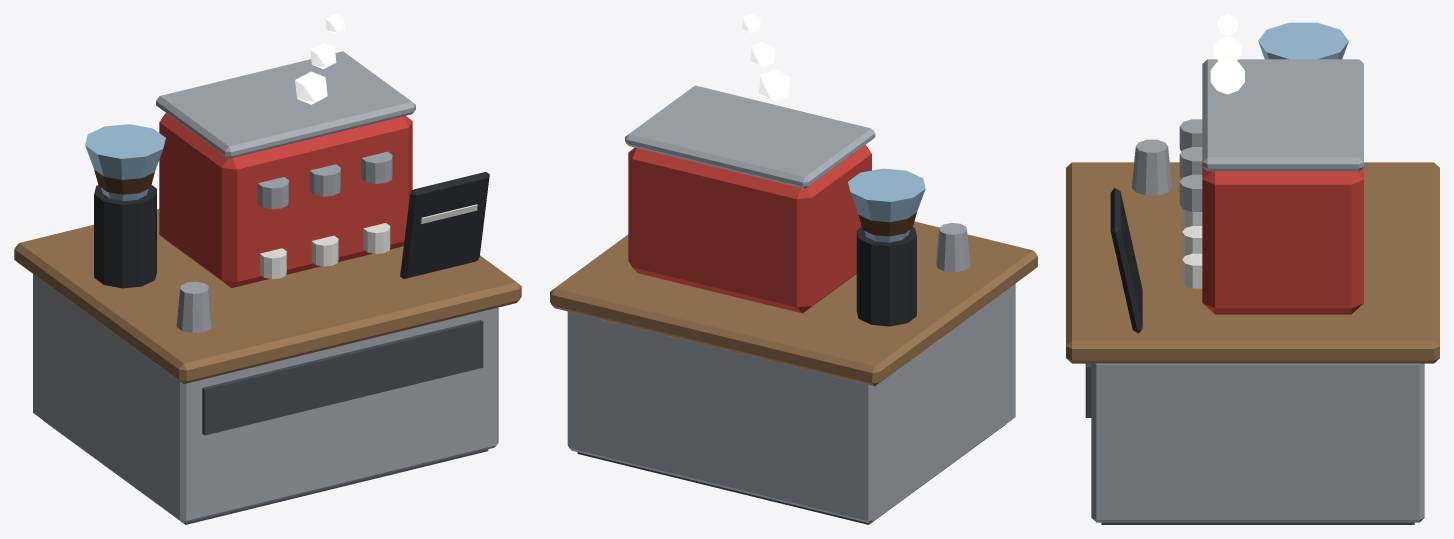
Rendered from coffee_3.glb.
3 renders of one model, left to right at view 1: azimuth 30°, elevation 25°; view 2: azimuth 150°, elevation 25°; view 3: azimuth 270°, elevation 25°, orthographic. The views are drawn at different scales.
Parts seen in each view (by area): view 1: coffee_3_mesh_Desk, coffee_3_mesh; view 2: coffee_3_mesh_Desk, coffee_3_mesh; view 3: coffee_3_mesh_Desk, coffee_3_mesh.
Boxes of the visible parts, box(x1,y1,x2,y2) form: coffee_3_mesh_Desk: box(14, 209, 521, 524); coffee_3_mesh: box(85, 14, 489, 332); coffee_3_mesh_Desk: box(550, 221, 1037, 524); coffee_3_mesh: box(625, 14, 970, 326); coffee_3_mesh_Desk: box(1066, 162, 1439, 524); coffee_3_mesh: box(1110, 14, 1363, 333).
Bounding box in the file's own units: 0.86 × 1 × 0.74.
